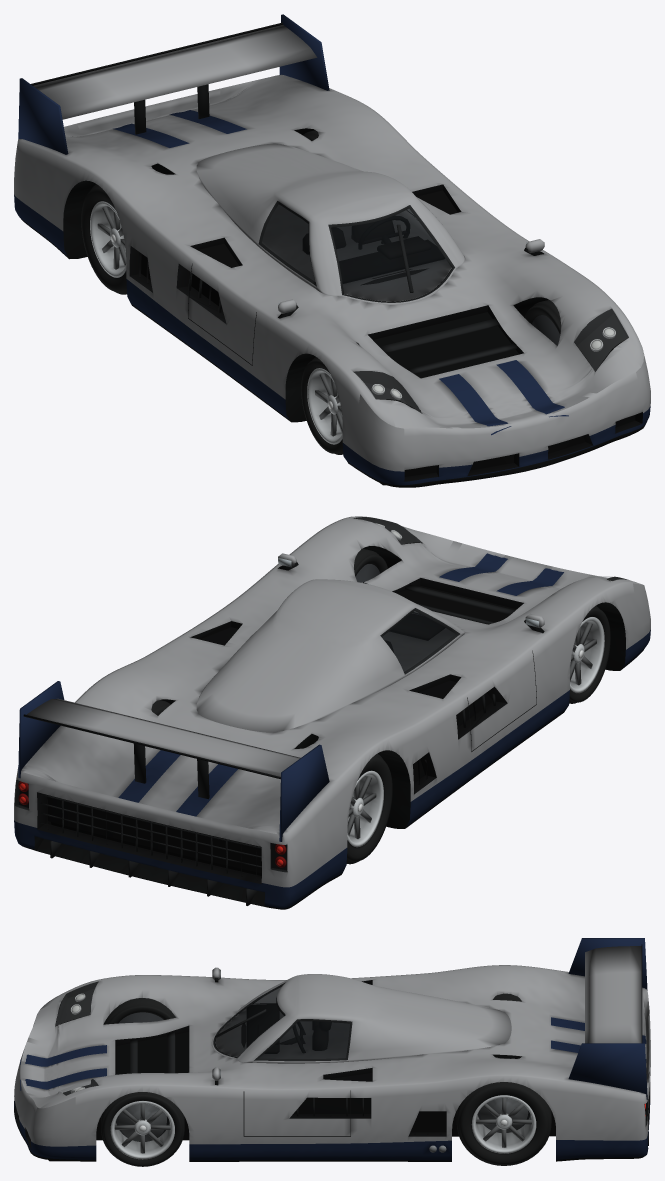
The model's file is mazda-787.glb.
3 views of the same model, one above another, from view 1: azimuth 30°, elevation 25°; view 2: azimuth 150°, elevation 25°; view 3: azimuth 270°, elevation 25° (orthographic). The views are drawn at different scales.
Visible parts, largest first — view 1: Coachwork, Body, Wheel_RR, Wheel_FR, Wheel_FL; view 2: Coachwork, Body, Wheel_RR, Wheel_FR, Wheel_FL; view 3: Coachwork, Body, Wheel_RL, Wheel_FL, Wheel_FR.
Boxes of the visible parts, left/top/right/bottom form: Coachwork: left=14, top=74, right=650, bottom=487; Body: left=18, top=14, right=628, bottom=485; Wheel_RR: left=81, top=184, right=126, bottom=294; Wheel_FR: left=301, top=357, right=343, bottom=454; Wheel_FL: left=524, top=300, right=560, bottom=345; Coachwork: left=14, top=516, right=650, bottom=909; Body: left=18, top=517, right=624, bottom=905; Wheel_RR: left=346, top=753, right=392, bottom=864; Wheel_FR: left=569, top=606, right=610, bottom=703; Wheel_FL: left=354, top=548, right=387, bottom=582; Coachwork: left=14, top=965, right=650, bottom=1161; Body: left=20, top=938, right=648, bottom=1161; Wheel_RL: left=456, top=1082, right=551, bottom=1165; Wheel_FL: left=101, top=1092, right=184, bottom=1166; Wheel_FR: left=103, top=998, right=175, bottom=1024.
Size of the model in its own units: 1.98 by 1.01 by 4.65.
